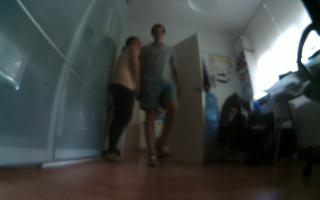person: (140, 21, 184, 169), (104, 31, 142, 165)
